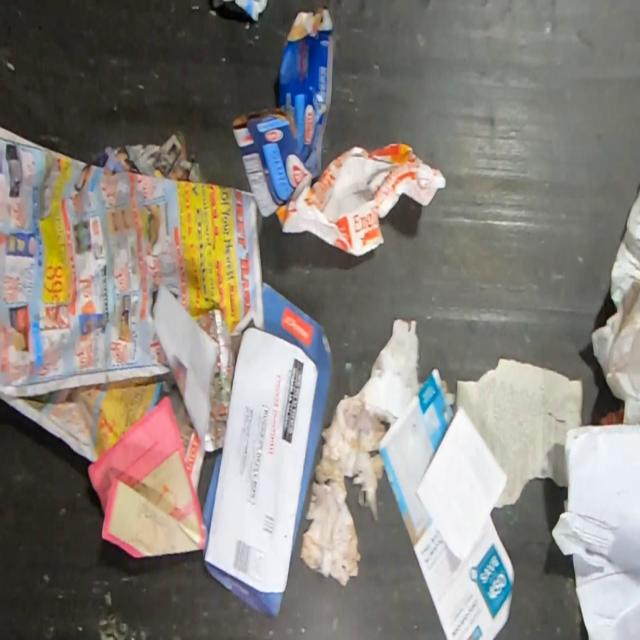cardboard: (232, 7, 333, 216)
soft_plastic: (275, 142, 447, 257)
